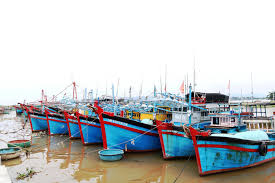tau_dansu: (191, 111, 275, 177), (98, 108, 166, 158), (150, 112, 198, 163), (38, 105, 81, 150), (75, 95, 109, 150), (62, 104, 95, 139)
